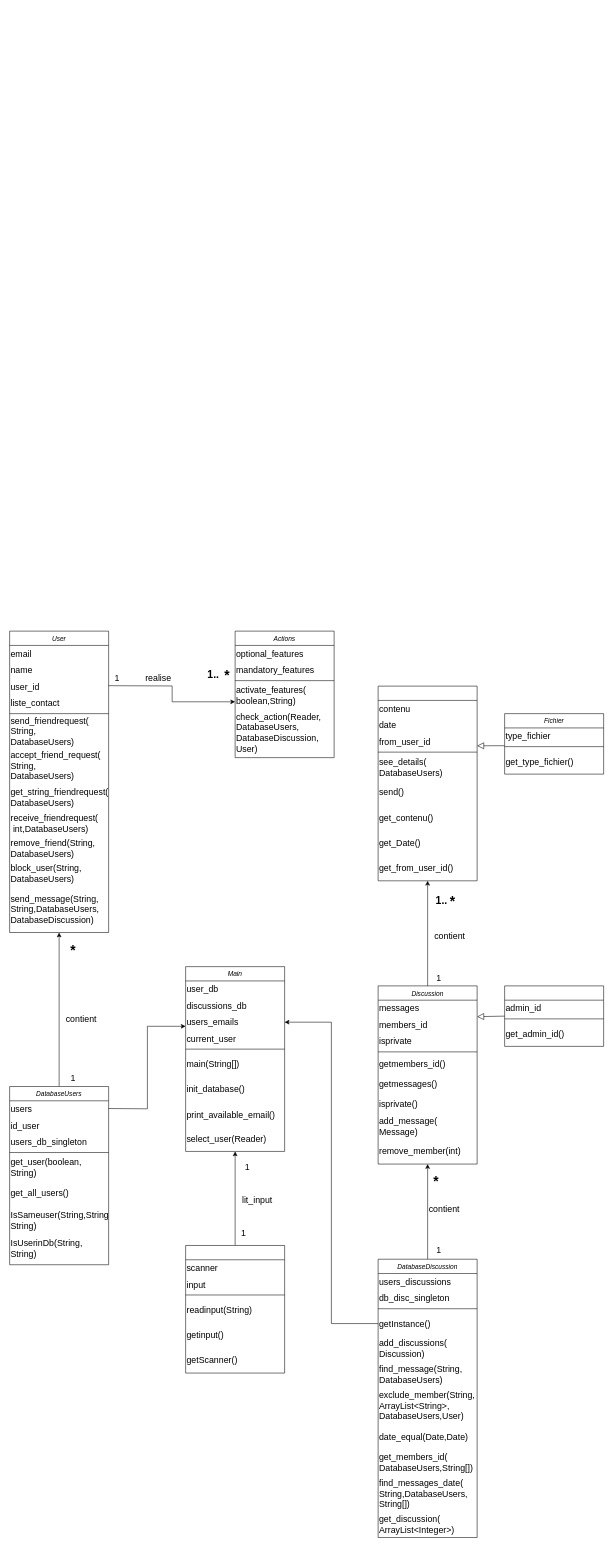
This 613x1551 diagram has some shape labels left out. Here are the shapes that lost their labels. From the top down, the box of each, then its label:
(378, 686, 477, 881): Message
(504, 985, 604, 1046): DiscussionGroupe
(185, 1245, 285, 1373): Reader
